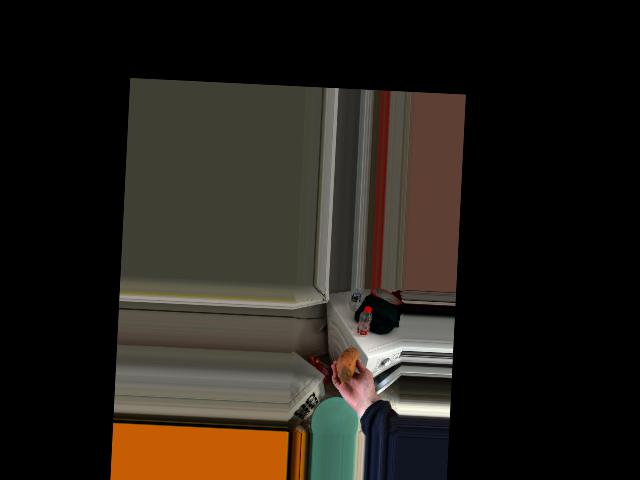sweet_potato: (337, 345, 356, 386)
